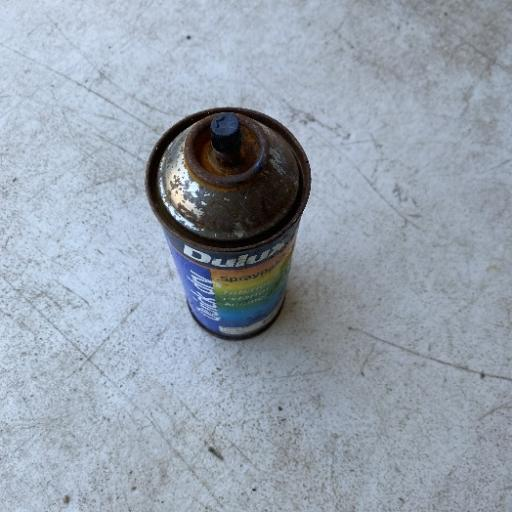Metal: (142, 105, 312, 342)
